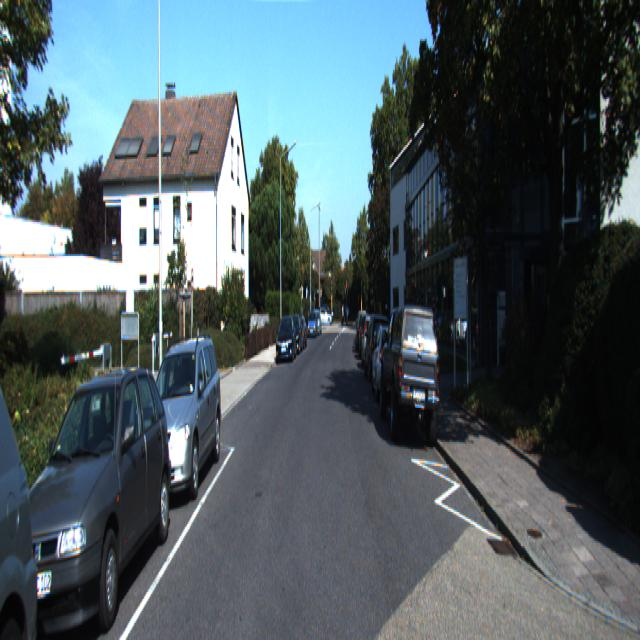Car: (2, 350, 176, 638), (132, 331, 225, 509), (0, 338, 55, 638), (380, 299, 442, 449), (371, 321, 406, 404), (364, 311, 392, 384), (361, 313, 382, 371), (276, 313, 296, 363), (307, 310, 319, 340)
